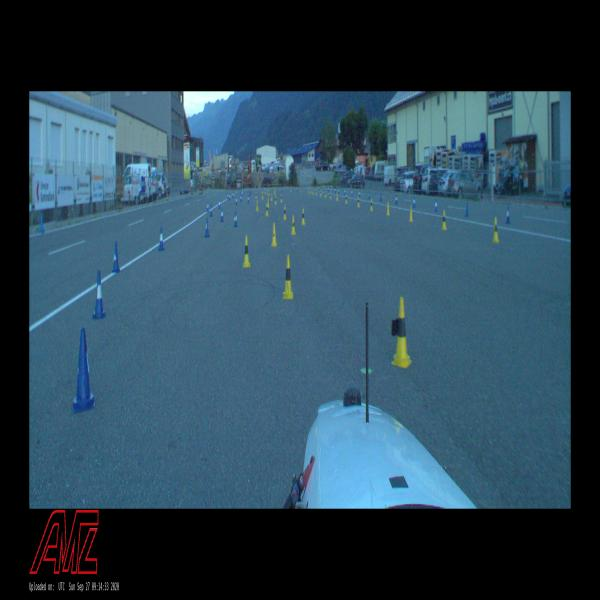blue_cone: (72, 328, 95, 413), (93, 270, 105, 319), (112, 242, 120, 272), (158, 227, 164, 251), (39, 212, 44, 232), (204, 218, 209, 237), (506, 206, 510, 224), (234, 212, 238, 228), (220, 207, 224, 222), (465, 202, 469, 217), (434, 199, 438, 213), (395, 194, 398, 205), (210, 206, 213, 216), (413, 196, 415, 208), (207, 201, 209, 212), (235, 198, 238, 205), (240, 194, 242, 202), (248, 195, 250, 203), (344, 188, 346, 195), (351, 189, 353, 196), (232, 192, 234, 198), (219, 199, 220, 209)
yellow_cone: (392, 296, 412, 369), (283, 255, 294, 300), (243, 236, 251, 267), (492, 216, 499, 242), (271, 223, 277, 247), (290, 215, 296, 235), (442, 210, 447, 230), (301, 209, 305, 225), (409, 206, 413, 222), (386, 202, 390, 216), (370, 198, 373, 212), (357, 196, 360, 208), (256, 200, 259, 212), (345, 194, 348, 204), (267, 198, 270, 208), (284, 206, 286, 220), (266, 204, 268, 216), (329, 192, 332, 199), (275, 195, 277, 204), (336, 192, 338, 201), (280, 194, 282, 202), (262, 192, 264, 199), (270, 194, 272, 201), (255, 192, 257, 198), (307, 187, 309, 193), (312, 188, 314, 194), (320, 190, 322, 196), (268, 190, 270, 195), (325, 190, 326, 198), (310, 187, 311, 194), (316, 189, 317, 195)
